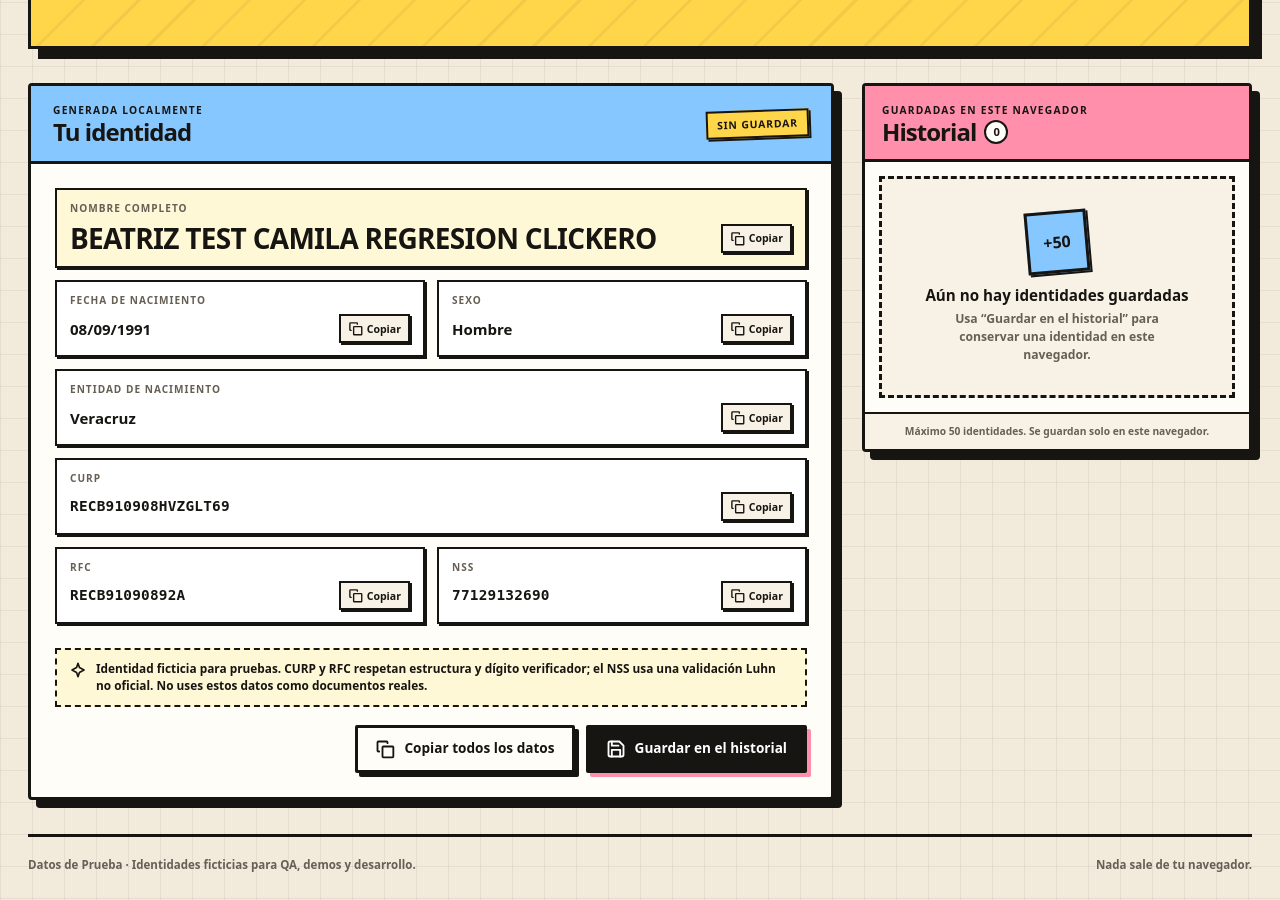
App › copies a field and all data with accessible feedback
(page scrolled)
Step 1. Click the button with aria-label "Copiar CURP" → {"x": 756, "y": 507}, box top-left (721, 492), bottom-right (792, 521)
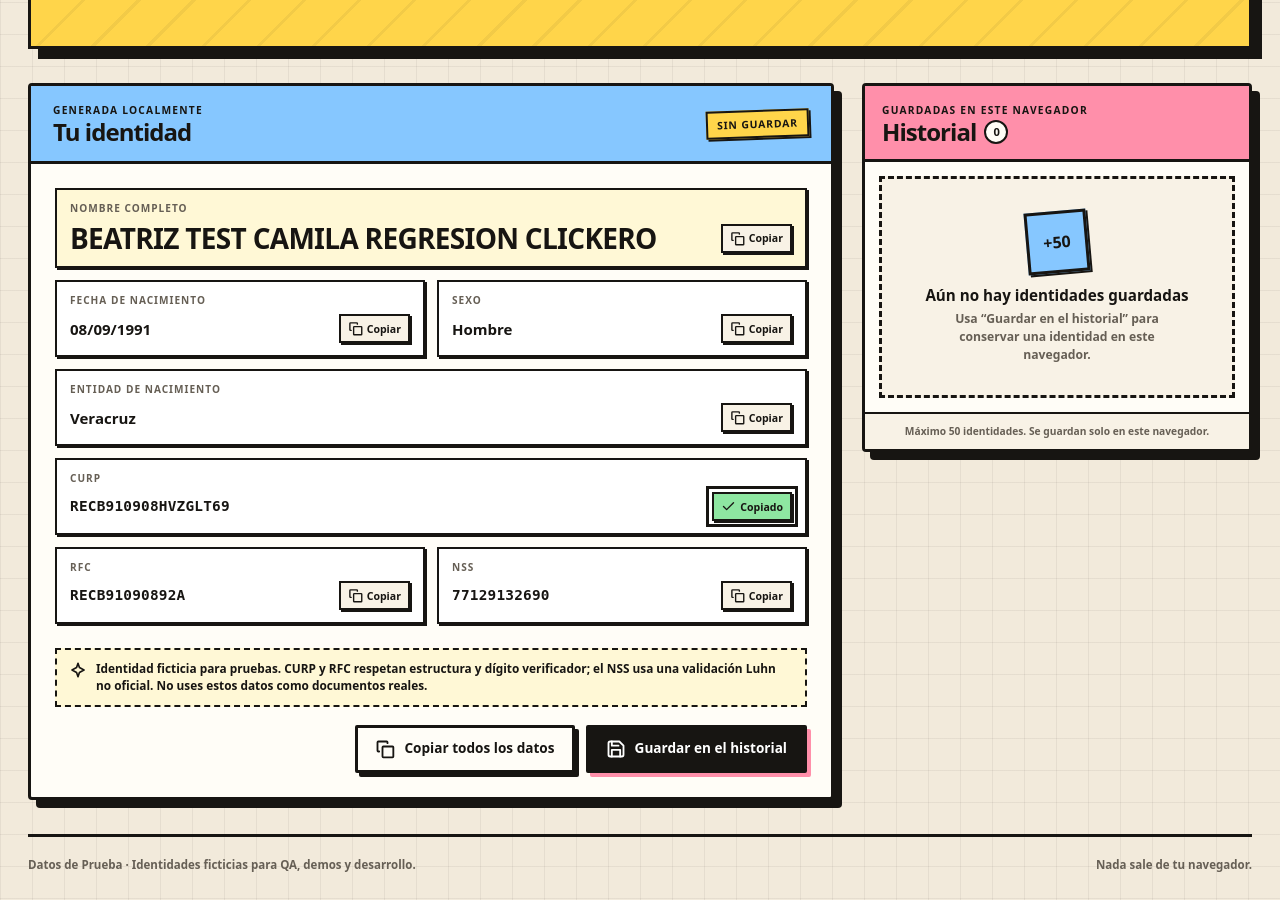
Check: the button with aria-label "CURP: copiado" is shown, box top-left (712, 492), bottom-right (792, 521)
Step 2. Click the button "Copiar todos los datos" → {"x": 465, "y": 749}, box top-left (355, 725), bottom-right (574, 773)
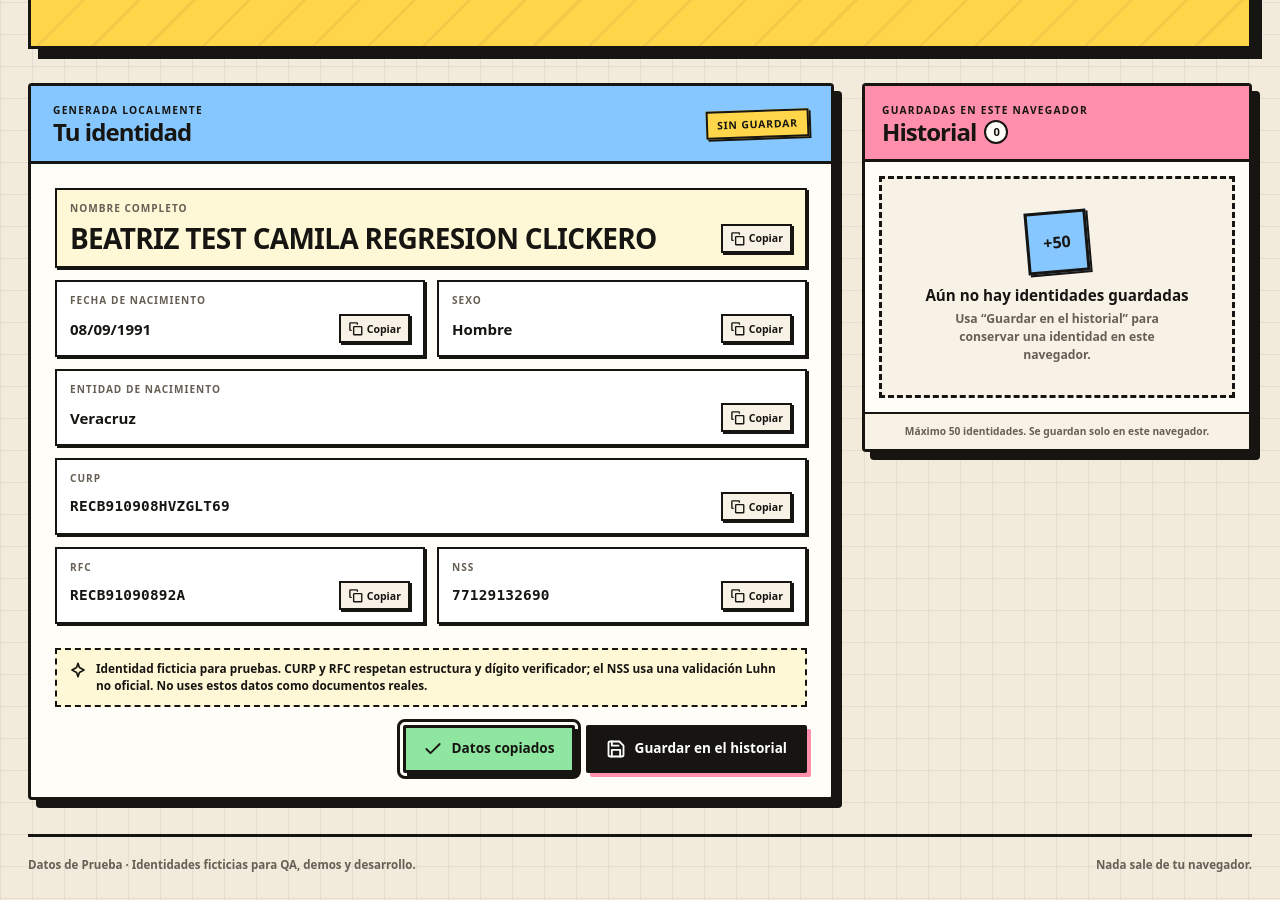
Check: the button "Datos copiados" is shown, box top-left (402, 725), bottom-right (574, 773)
